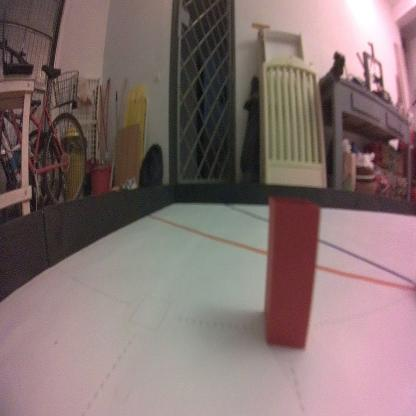red: (262, 195, 322, 352)
